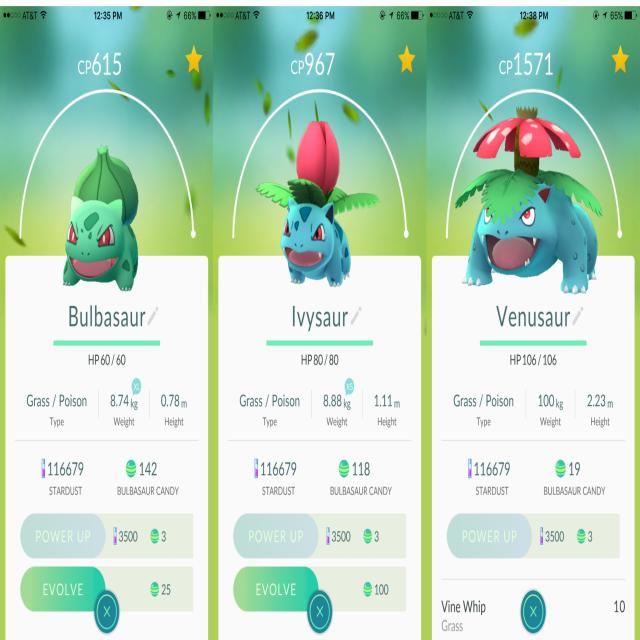Bulbasaur: (65, 122, 138, 300)
Ivysaur: (276, 119, 356, 287)
Venusaur: (472, 102, 591, 294)
